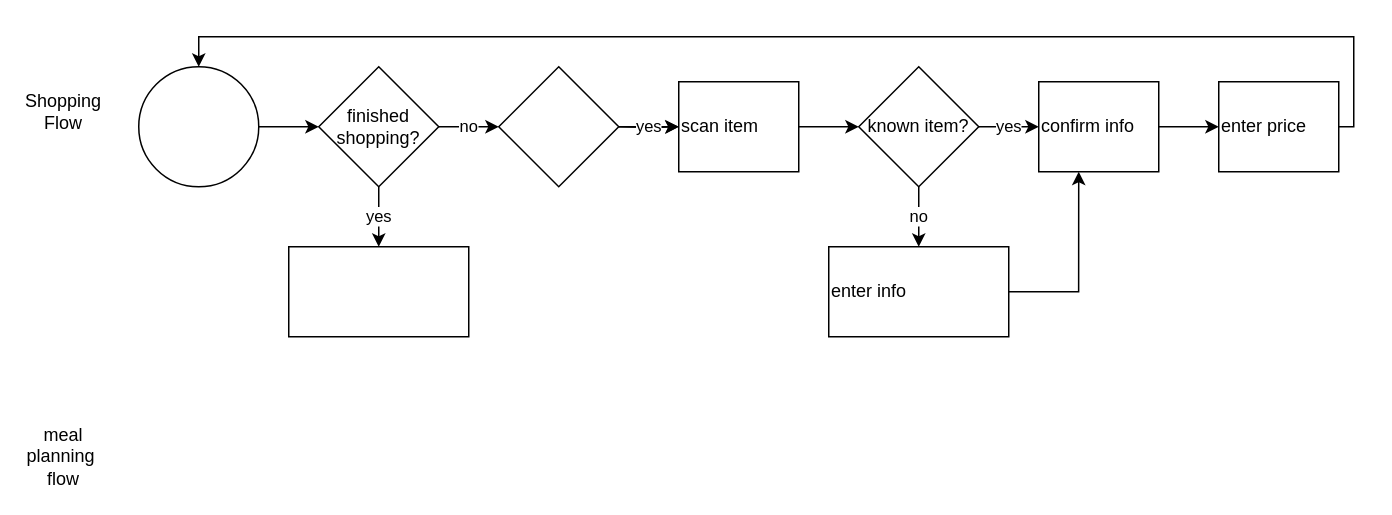
The diagram is 1392 pixels wide and 515 high, and some of its shapes have lost their labels. The shapes that lost their labels are listed below. From the top down, each one's centre as x and y in pixels, then its label:
the point at 198,126: event loop
the point at 558,126: scanned item?
the point at 378,291: save list and exit
